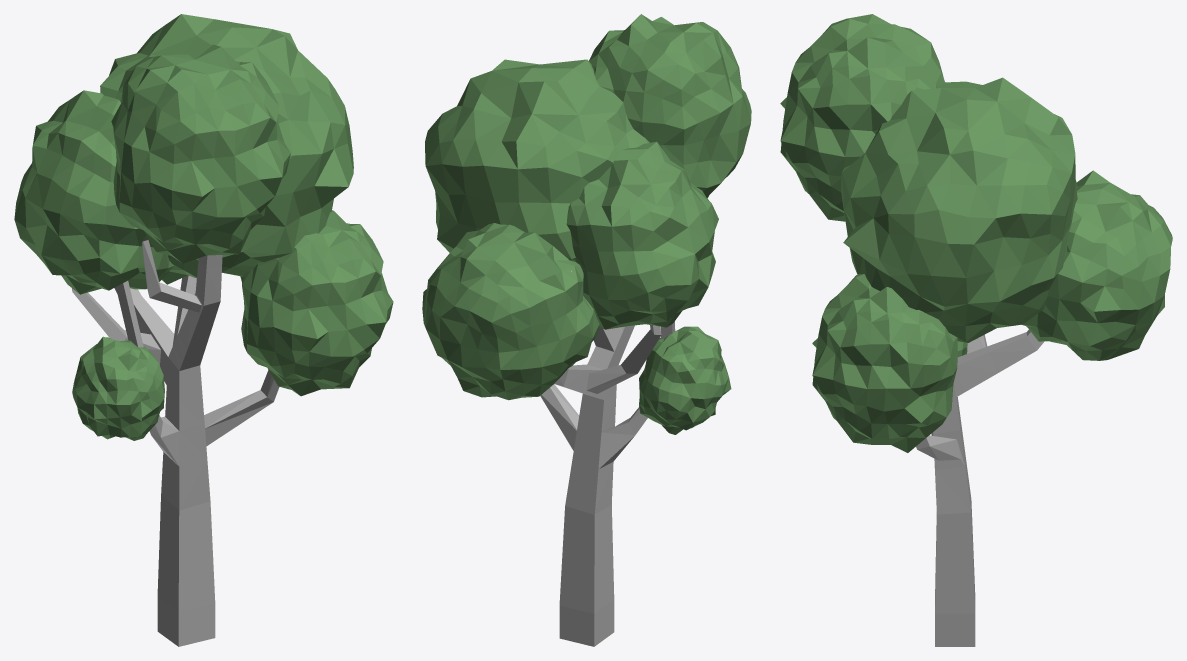
File: Koivu.fbx
3 views of the same model, side by side, from view 1: azimuth 30°, elevation 25°; view 2: azimuth 150°, elevation 25°; view 3: azimuth 270°, elevation 25° (orthographic). The views are drawn at different scales.
Visible parts, largest first — view 1: Cube.006; view 2: Cube.006; view 3: Cube.006.
Part boxes in pixels (bbox=[...]): Cube.006: bbox=[14, 14, 393, 646]; Cube.006: bbox=[422, 14, 751, 646]; Cube.006: bbox=[780, 14, 1172, 646].
Bounding box in the file's own units: 557 × 1110 × 663.
